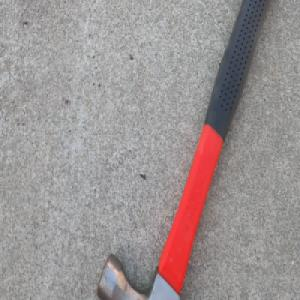Hammer: (96, 0, 270, 300)
